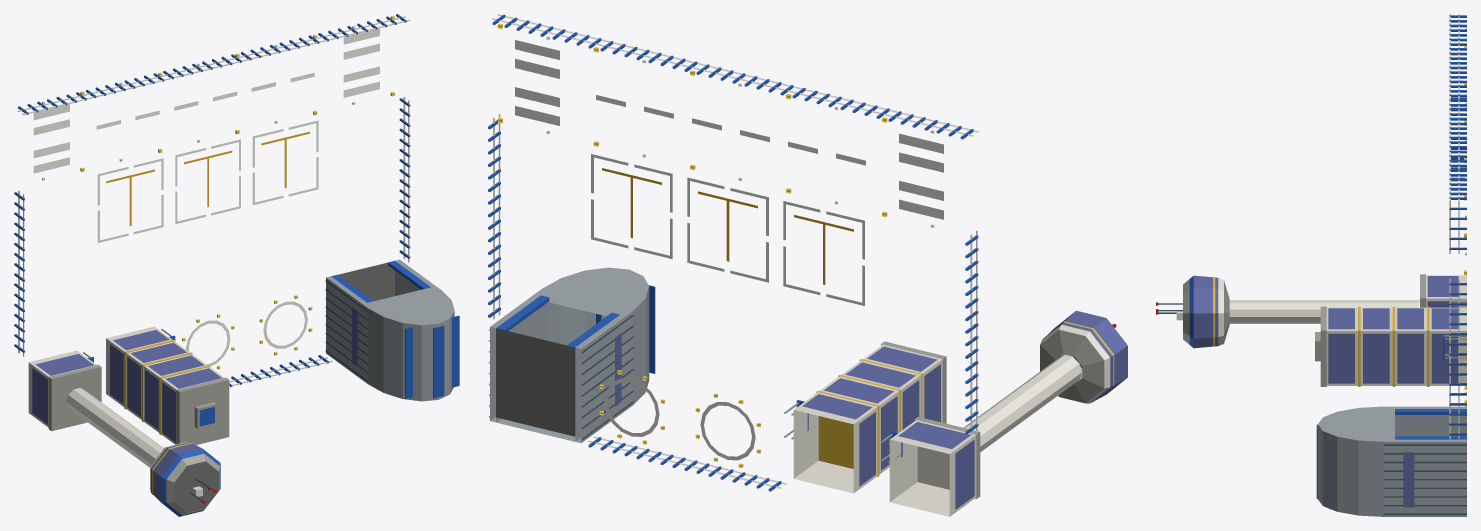
3 views of the same model, side by side, from view 1: azimuth 30°, elevation 25°; view 2: azimuth 150°, elevation 25°; view 3: azimuth 270°, elevation 25° (orthographic). The views are drawn at different scales.
Visible parts, largest first — view 1: t4_0_g24, t0_0_g47, t1_0_g22, t0_3_g18, t4_3_g18, t3_0_g54, t3_2_g3, t1_2_g3, t2_2_g3, t2_3_g15, t1_3_g15, t3_3_g15 (+5 smaller); view 2: t4_0_g24, t0_0_g47, t1_0_g22, t0_3_g18, t4_3_g18, t2_0_g54, t3_0_g54, t2_2_g3, t3_2_g3, t1_2_g3, t2_3_g15, t1_3_g15 (+5 smaller); view 3: t4_0_g24, t1_0_g22, t0_0_g47, t4_1_g2, t4_2_g2, t4_3_g18, t3_3_g15, t2_3_g15, t1_3_g15, t0_3_g18, t0_1_g48.
Part boxes in pixels (left/top/right/bottom): t4_0_g24: left=325, top=259, right=459, bottom=401; t0_0_g47: left=28, top=350, right=220, bottom=516; t1_0_g22: left=106, top=326, right=229, bottom=444; t0_3_g18: left=17, top=89, right=100, bottom=180; t4_3_g18: left=328, top=14, right=410, bottom=104; t3_0_g54: left=250, top=295, right=332, bottom=380; t3_2_g3: left=252, top=120, right=318, bottom=205; t1_2_g3: left=97, top=158, right=163, bottom=242; t2_2_g3: left=175, top=139, right=240, bottom=224; t2_3_g15: left=173, top=52, right=255, bottom=142; t1_3_g15: left=95, top=71, right=177, bottom=161; t3_3_g15: left=250, top=33, right=332, bottom=123; t4_0_g24: left=489, top=267, right=655, bottom=443; t0_0_g47: left=881, top=310, right=1127, bottom=516; t1_0_g22: left=784, top=341, right=946, bottom=493; t0_3_g18: left=876, top=108, right=978, bottom=227; t4_3_g18: left=492, top=14, right=593, bottom=134; t2_0_g54: left=684, top=393, right=786, bottom=491; t3_0_g54: left=588, top=370, right=689, bottom=467; t2_2_g3: left=687, top=177, right=768, bottom=282; t3_2_g3: left=591, top=154, right=672, bottom=258; t1_2_g3: left=783, top=201, right=864, bottom=305; t2_3_g15: left=684, top=61, right=785, bottom=181; t1_3_g15: left=780, top=84, right=882, bottom=204; t4_0_g24: left=1316, top=406, right=1466, bottom=516; t1_0_g22: left=1315, top=306, right=1466, bottom=386; t0_0_g47: left=1156, top=274, right=1466, bottom=348; t4_1_g2: left=1449, top=359, right=1466, bottom=439; t4_2_g2: left=1449, top=279, right=1466, bottom=359; t4_3_g18: left=1449, top=163, right=1466, bottom=274; t3_3_g15: left=1449, top=126, right=1466, bottom=237; t2_3_g15: left=1449, top=88, right=1466, bottom=200; t1_3_g15: left=1449, top=51, right=1466, bottom=162; t0_3_g18: left=1449, top=14, right=1466, bottom=125; t0_1_g48: left=1449, top=177, right=1466, bottom=253.
Size of the model in its own units: 80 by 63.84 by 56.3.
